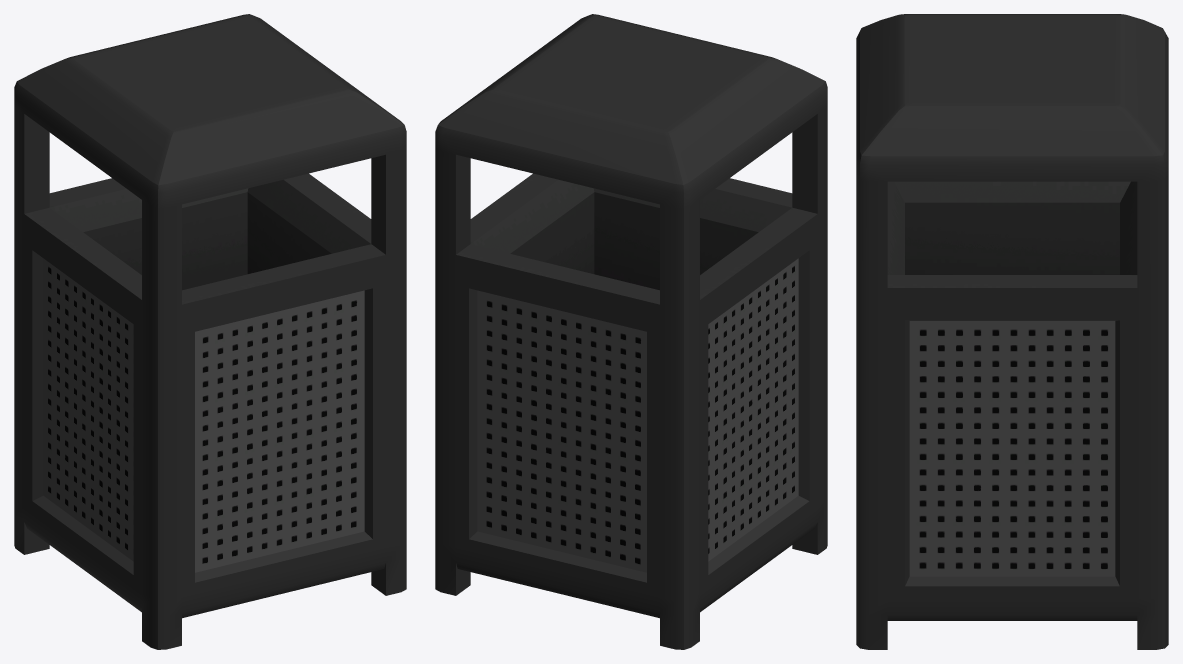
The model's file is trash can sqare.glb.
The picture shows the model from 3 angles, left to right: view 1: azimuth 30°, elevation 25°; view 2: azimuth 150°, elevation 25°; view 3: azimuth 270°, elevation 25°; orthographic projection. The views are drawn at different scales.
Visible parts, largest first — view 1: Trashcan_Square; view 2: Trashcan_Square; view 3: Trashcan_Square.
Part boxes in pixels (x1,y1,x2,y2): Trashcan_Square: [14, 14, 406, 649]; Trashcan_Square: [435, 14, 827, 649]; Trashcan_Square: [856, 14, 1168, 649].
Size of the model in its own units: 0.627 by 1.16 by 0.627.
1 material, 1 textured.
